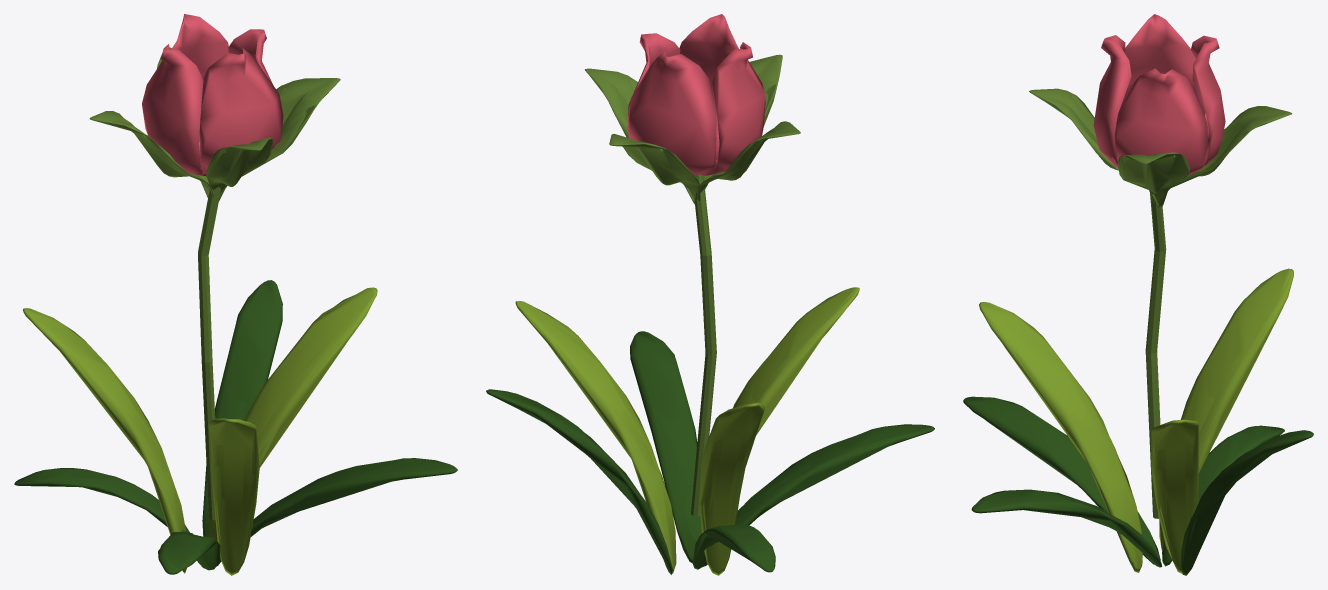
File: tulipan_ROSA_2.fbx
3 views of the same model, side by side, from view 1: azimuth 30°, elevation 25°; view 2: azimuth 150°, elevation 25°; view 3: azimuth 270°, elevation 25° (orthographic).
Parts seen in each view (by area): view 1: Cubo.056, Plano.050, Cubo.058, Cubo.057, Cubo.041, Plano.049, Cubo.049, Plano.056, Cubo.023, DEMAS2.019, DEMAS2.018, Cubo.020 (+3 smaller); view 2: Cubo.049, Plano.014, Cubo.056, Cubo.058, Cubo.020, Cubo.057, Plano.049, Cubo.041, Plano.056, Plano.050, Cubo.023, DEMAS2.001 (+4 smaller); view 3: Cubo.057, Cubo.058, Plano.051, Cubo.056, Cubo.020, Cubo.041, Cubo.049, Plano.049, Plano.056, Plano.050, Plano.014, DEMAS2.019 (+3 smaller).
Part boxes in pixels (x1,y1,x2,y2): Cubo.056: (209,287,377,540); Plano.050: (199,48,283,175); Cubo.058: (23,308,186,573); Cubo.057: (208,418,259,575); Cubo.041: (202,280,282,536); Plano.049: (142,44,206,176); Cubo.049: (217,458,457,565); Plano.056: (198,186,220,519); Cubo.023: (14,468,189,532); DEMAS2.019: (219,78,340,200); DEMAS2.018: (206,137,273,200); Cubo.020: (158,532,220,574); Cubo.049: (630,331,701,562); Plano.014: (627,51,716,174); Cubo.056: (515,301,676,573); Cubo.058: (699,402,764,575); Cubo.020: (703,424,934,566); Cubo.057: (733,287,859,435); Plano.049: (699,42,765,175); Cubo.041: (486,389,672,574); Plano.056: (691,174,716,516); Plano.050: (679,14,738,160); Cubo.023: (692,524,775,572); DEMAS2.001: (609,134,700,200); Cubo.057: (979,302,1142,572); Cubo.058: (1159,268,1293,550); Plano.051: (1112,68,1207,178); Cubo.056: (1151,419,1199,573); Cubo.020: (963,396,1160,564); Cubo.041: (1181,430,1313,575); Cubo.049: (971,489,1162,567); Plano.049: (1122,14,1205,115); Plano.056: (1145,193,1166,518); Plano.050: (1093,35,1131,167); Plano.014: (1191,35,1225,166); DEMAS2.019: (1117,152,1190,206).
Size of the model in its own units: 393 by 639 by 381.
